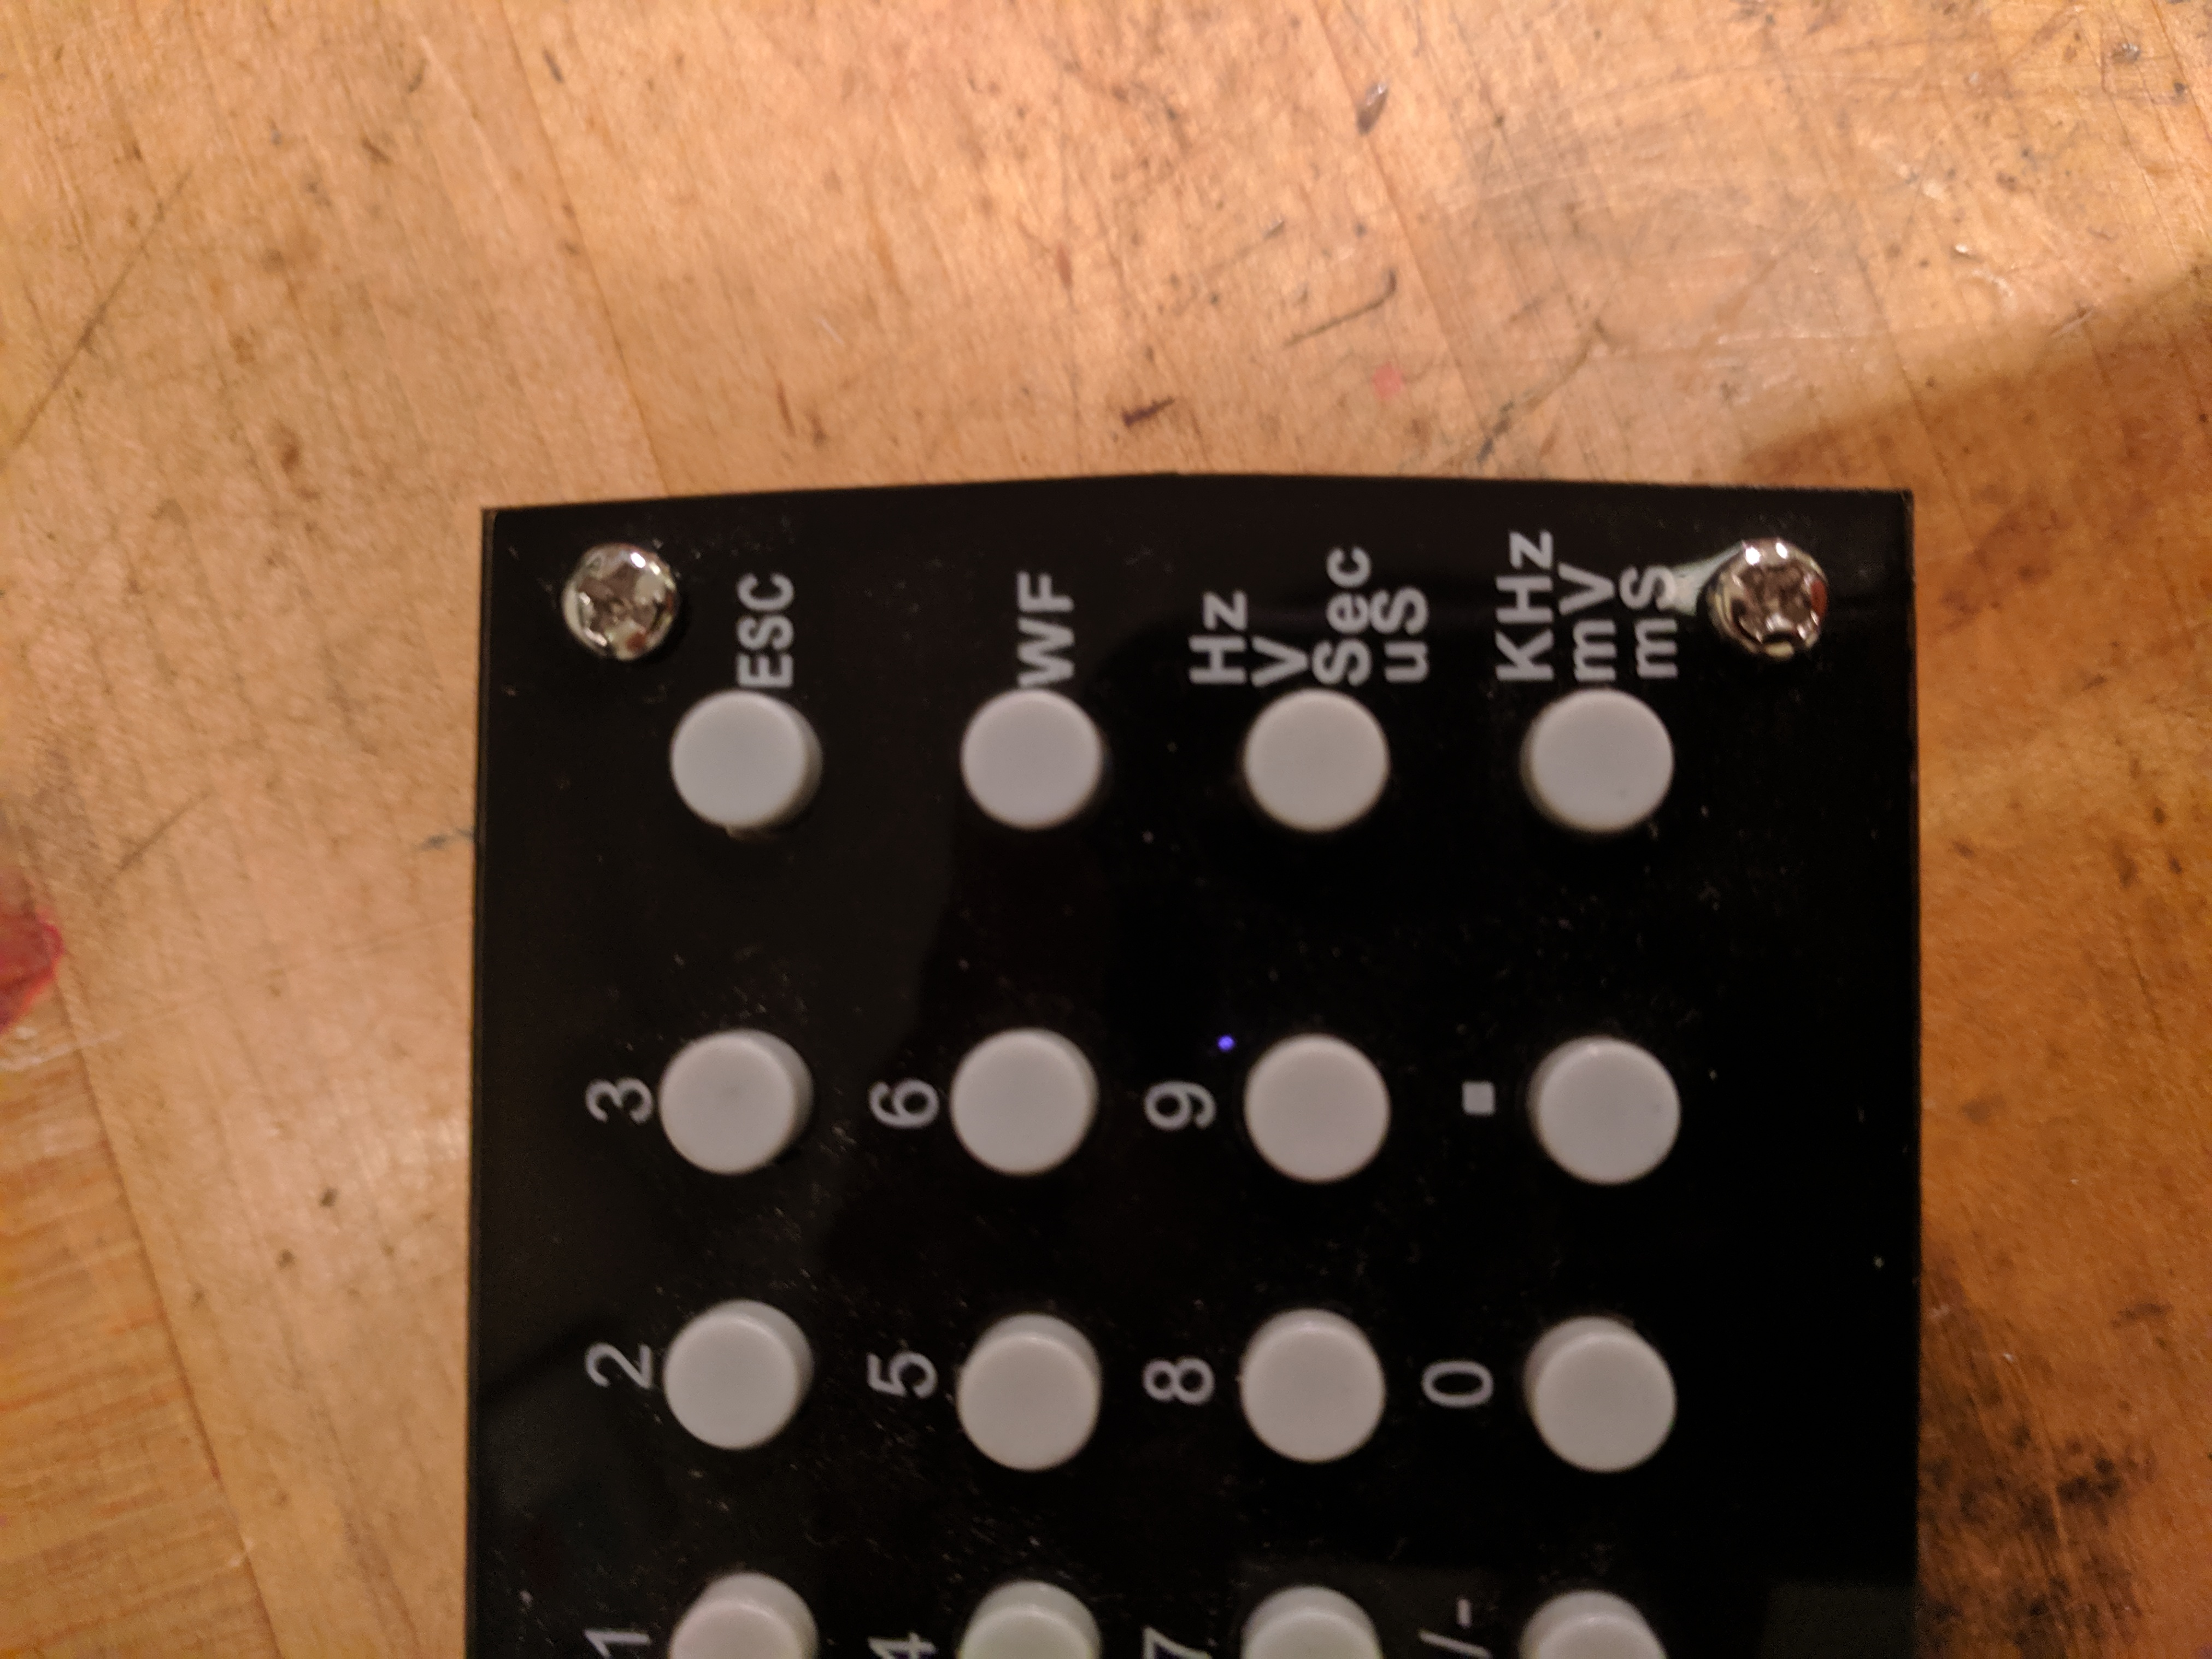cross_recessed_screw: (1712, 537, 1832, 662), (561, 542, 674, 657)
